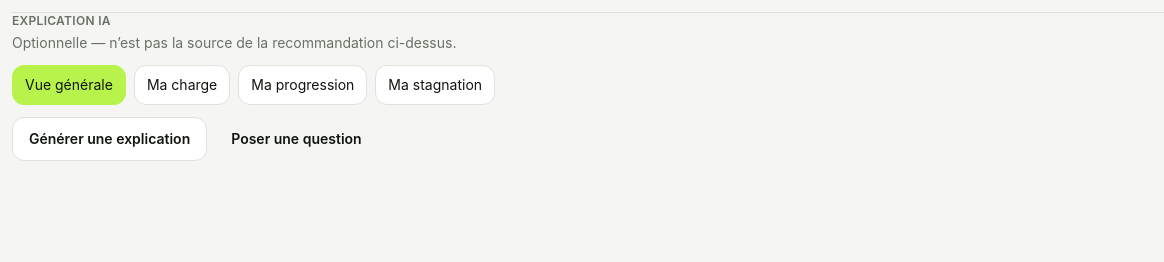
it: ExerciseCoachAiExplanation (5.5) › affiche une erreur contrôlée
This screenshot has width=1164, height=262.
Click the button "Générer une explication" at x=110, y=139, box [12, 117, 207, 161]
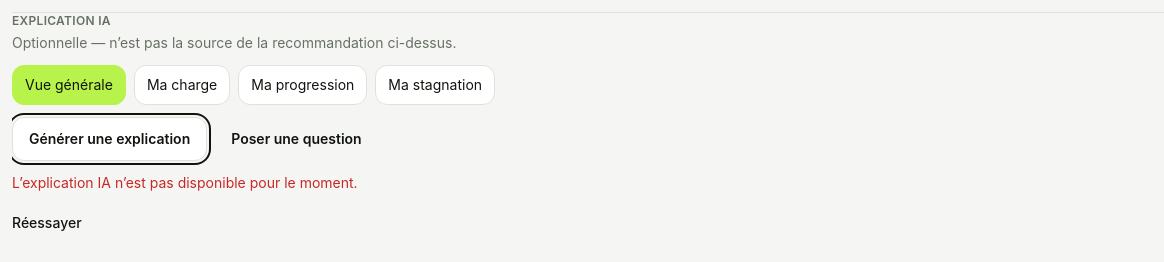
Expected: the message "L’explication IA n’est pas disponible pour le moment. Réessayer" is shown, [12, 174, 358, 245]
